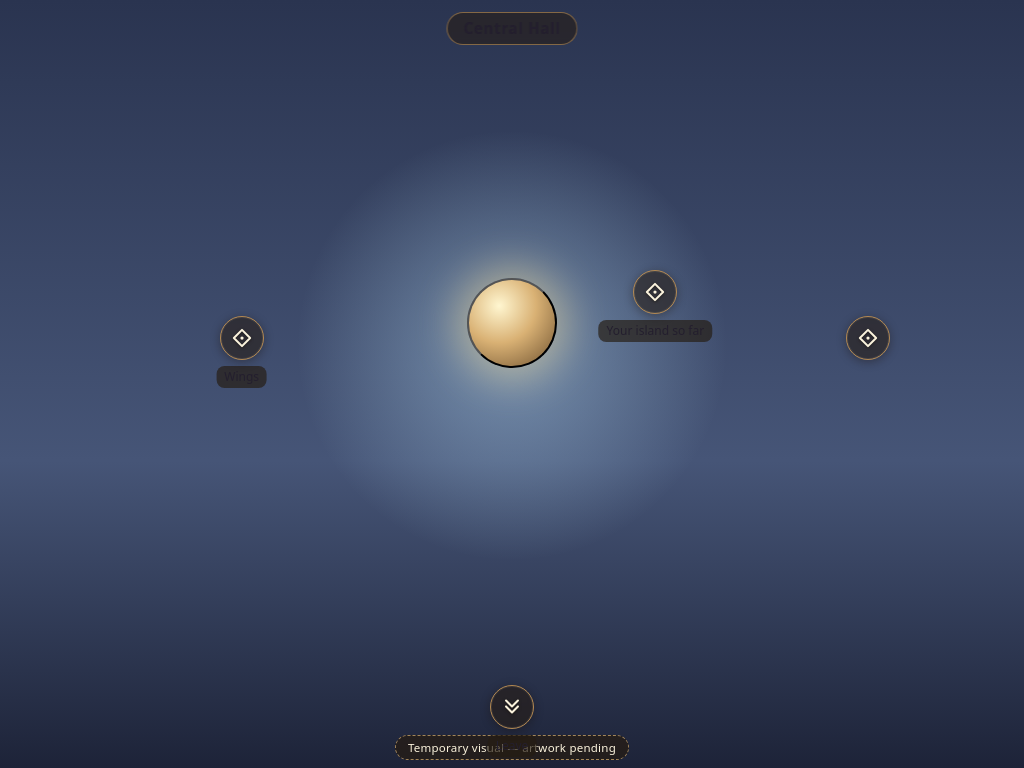
Scenario: Museum labels and closed states › never shows raw content ids: a missing label becomes a localized generic word
Click the button with test id "hall-wings": (242, 338) x1=220 y1=316 x2=264 y2=360
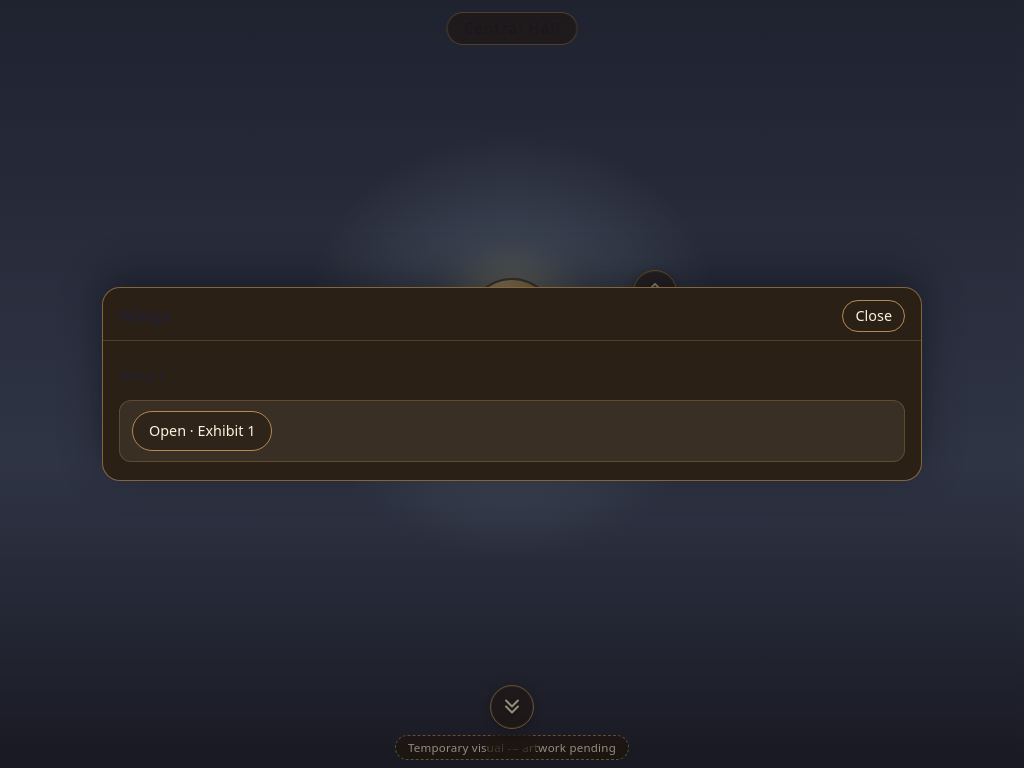
Check: the button with test id "exhibit-open-e1" shows "Exhibit 1", box x1=132 y1=411 x2=272 y2=451
